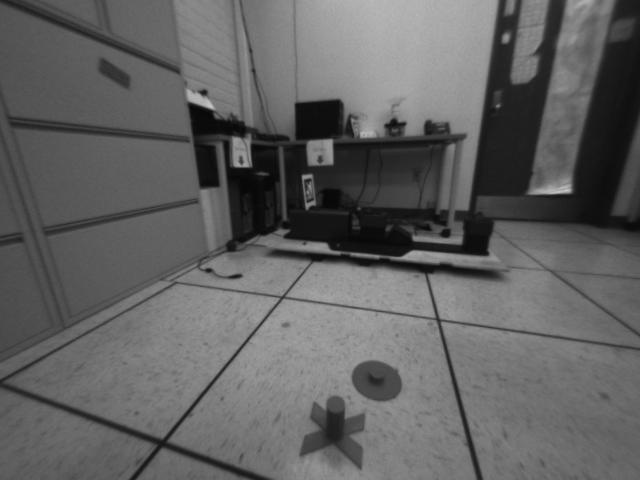X: (298, 395, 367, 472)
